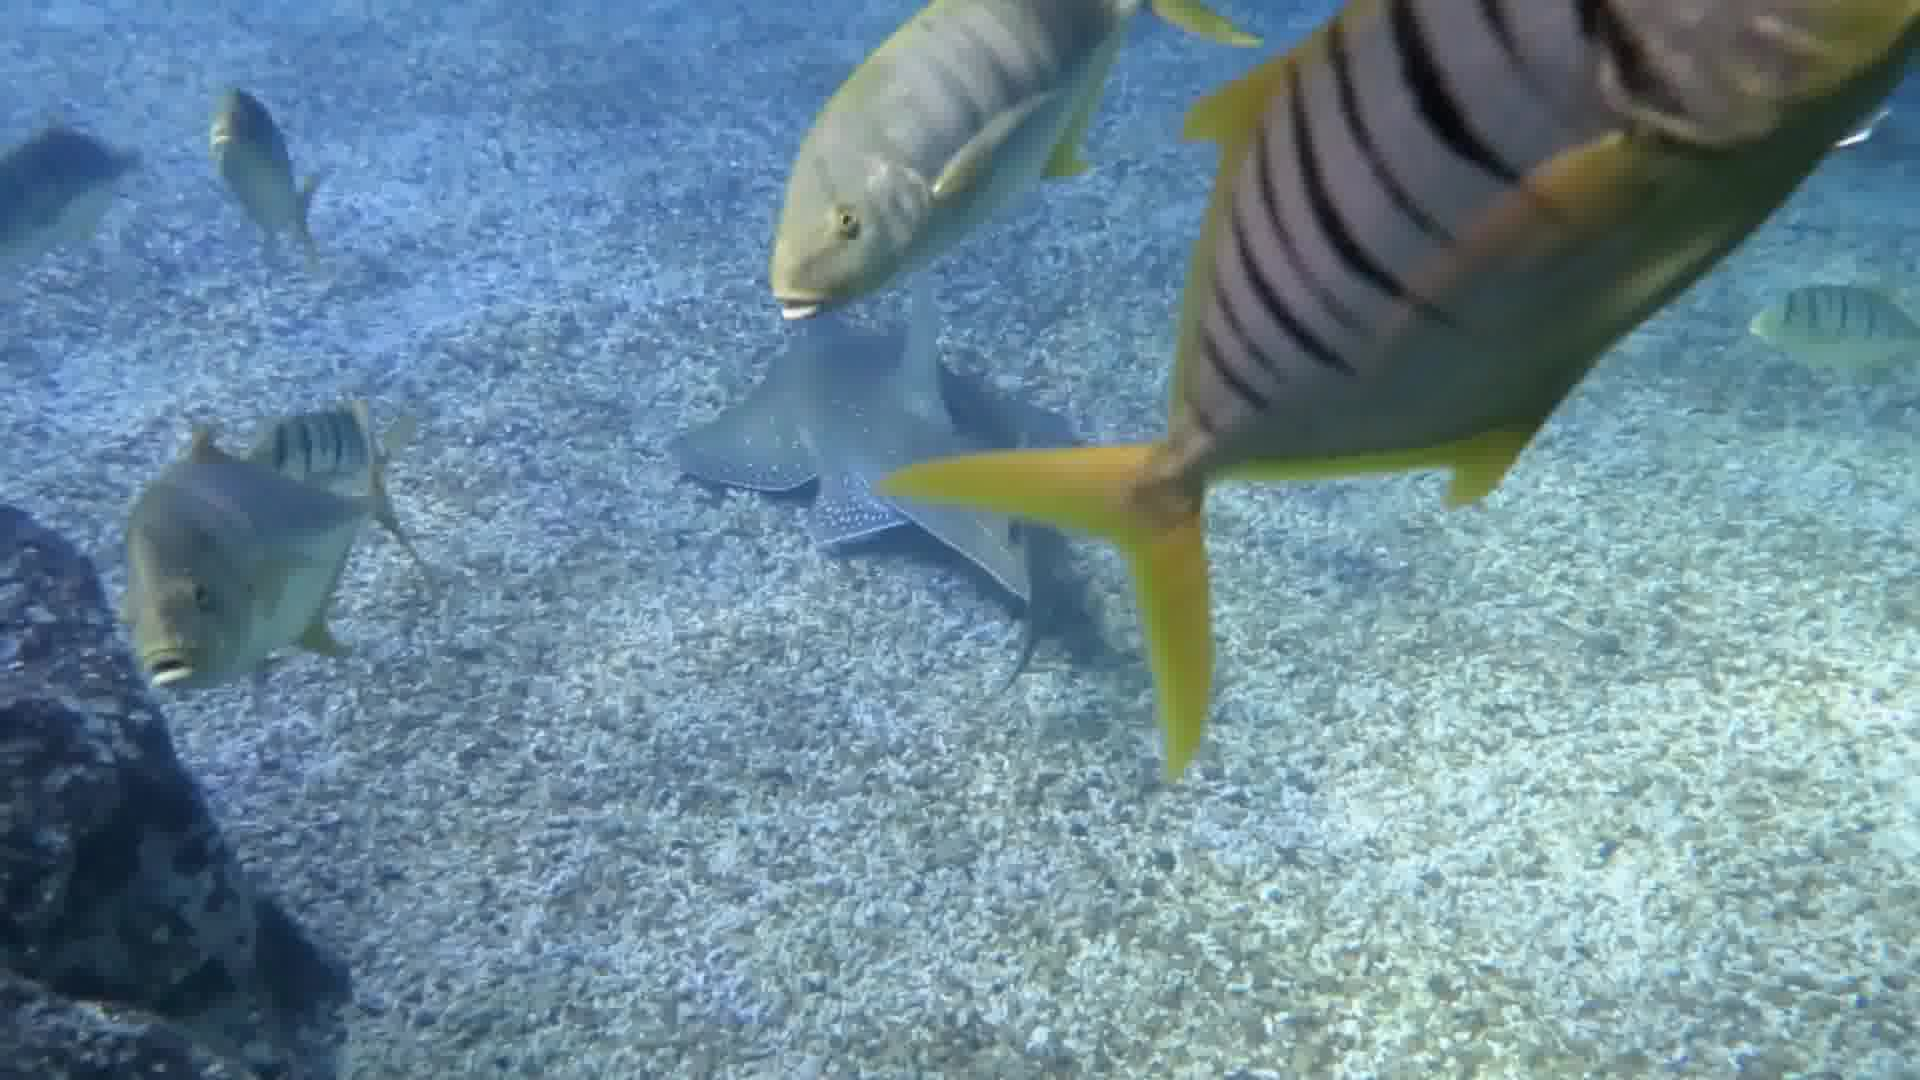Rhychobatus djiddensis: (698, 309, 1026, 588)
